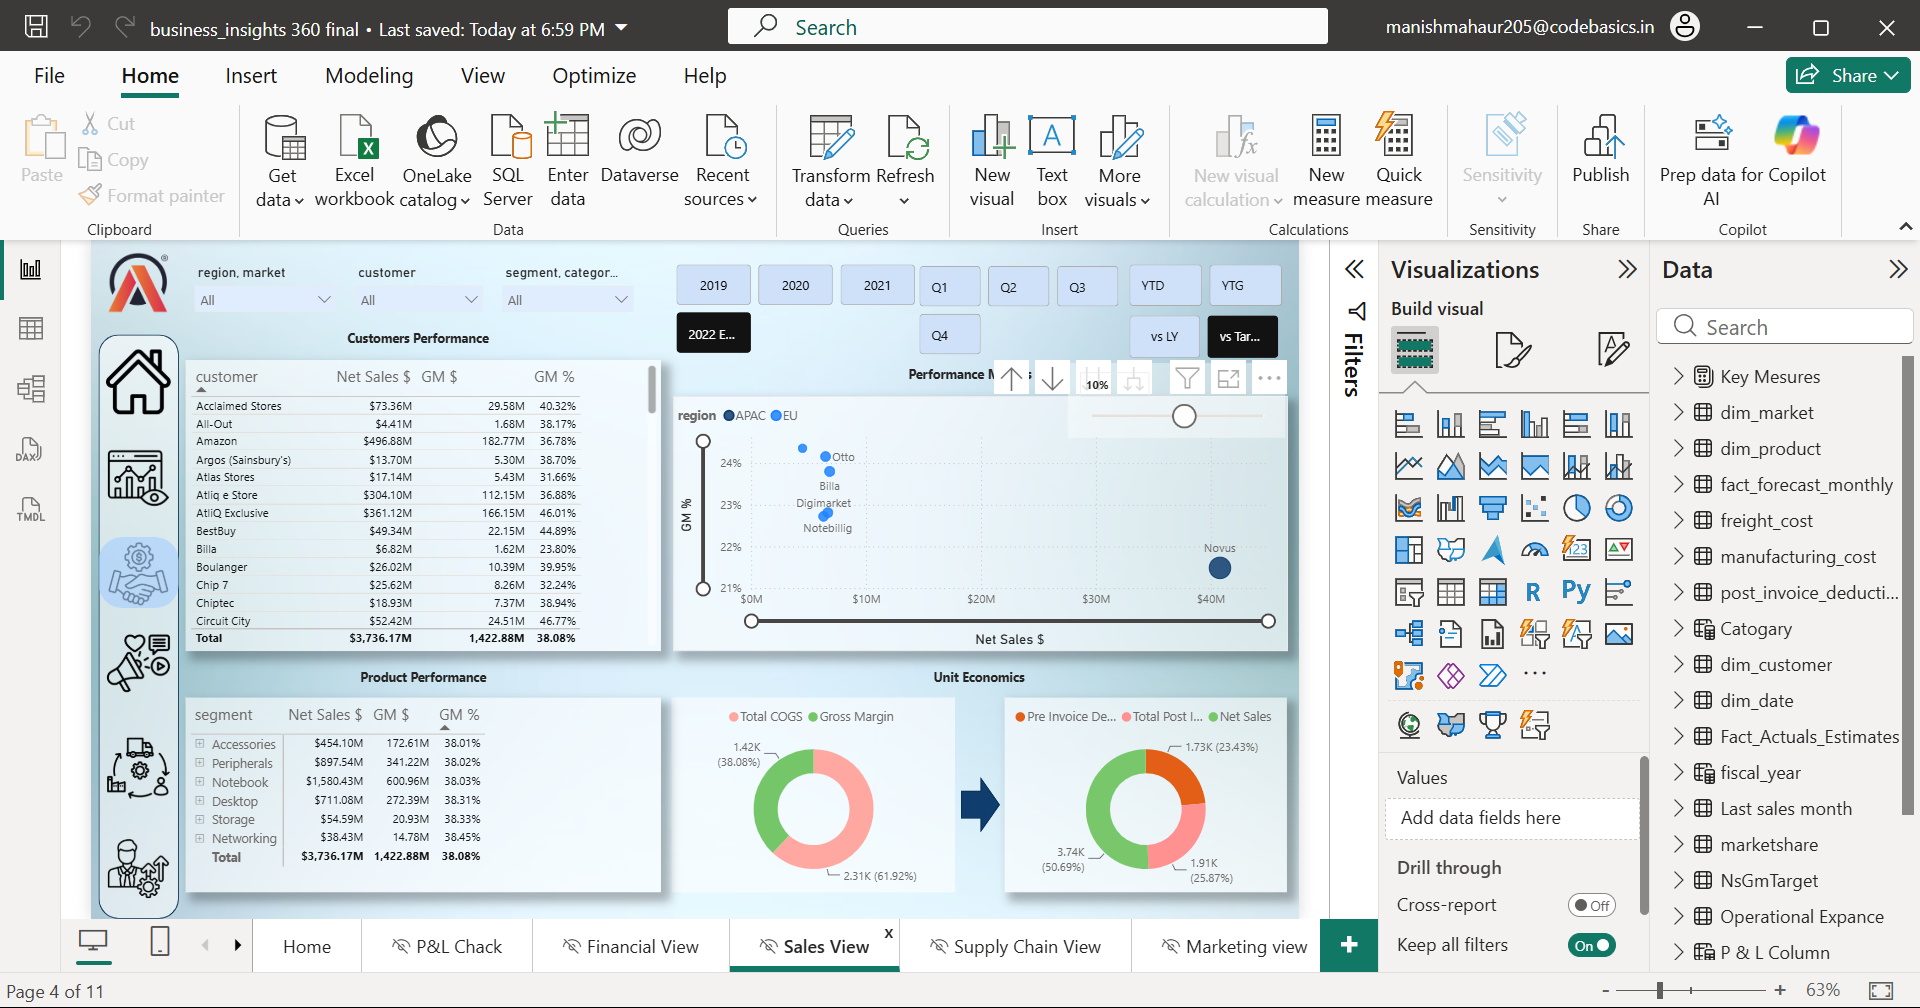

What the dashboard file says about the page in this screenshot:
{"tool":"powerbi","page":{"name":"Sales View","canvas":[1280,720],"ordinal":3},"visuals":[{"type":"advancedSlicerVisual","fields":{"Values":["fiscal_year.FY Desc"]},"box":[615.6,20.7,264,105.6],"z":0},{"type":"advancedSlicerVisual","fields":{"Values":["dim_date.Quarter"]},"box":[873.2,22.3,223.3,105],"z":1000},{"type":"advancedSlicerVisual","fields":{"Values":["dim_date.YTD_YTG"]},"box":[1096.6,20.3,172.9,54.2],"z":2000},{"type":"slicer","fields":{"Values":[" dim_market.region"," dim_market.market"]},"box":[100.8,20.8,169.6,65.6],"z":3000},{"type":"slicer","fields":{"Values":[" dim_product.segment"," dim_product.category"," dim_product.product"]},"box":[425.6,20.8,158.4,65.6],"z":4000},{"type":"slicer","fields":{"Values":["dim_customer.customer"]},"box":[270.4,20.7,155.2,65.6],"z":5000},{"type":"shape","box":[8.2,100,85.2,619.7],"z":6000},{"type":"image","box":[8.2,13.1,85.2,63.9],"z":7000},{"type":"image","box":[16.4,213.1,68.9,78.7],"z":8000},{"type":"image","box":[16.4,116.4,68.9,68.9],"z":9000},{"type":"image","box":[16.4,411.5,68.9,73.8],"z":10000},{"type":"image","box":[16.4,318,68.9,72.1],"z":11000},{"type":"image","box":[16.4,521.3,68.9,77],"z":12000},{"type":"image","box":[16.4,627.9,68.9,77],"z":13000},{"type":"shape","box":[8,314.9,85.2,75.4],"z":14000},{"type":"tableEx","fields":{"Values":["dim_customer.customer","Key Mesures.Net Sales $","Key Mesures.Gross Margin $","Key Mesures.Gross Margin %"]},"box":[100.2,127.2,504.2,308.6],"z":15000},{"type":"donutChart","fields":{"Category":["P & L Rows.Description"],"Y":["Key Mesures.P & L Velue"]},"box":[968.7,485.1,299,206.8],"z":16000},{"type":"shape","box":[922.6,569.4,41.4,58.9],"z":17000},{"type":"donutChart","fields":{"Category":["P & L Rows.Description"],"Y":["Key Mesures.P & L Velue"]},"box":[615.5,485.3,300.6,206.8],"z":18000},{"type":"pivotTable","fields":{"Rows":[" dim_product.segment"," dim_product.category"," dim_product.product"],"Values":["Key Mesures.Net Sales $","Key Mesures.Gross Margin $","Key Mesures.Gross Margin %"]},"box":[100.2,485.1,504.2,206.8],"z":19000},{"type":"textbox","box":[100.2,89.1,493.1,38.2],"z":20000},{"type":"textbox","box":[100.2,448.6,504.2,38.2],"z":21000},{"type":"textbox","box":[594.9,127.2,674.4,38.2],"z":22000},{"type":"scatterChart","fields":{"Category":[" dim_market.market","dim_customer.customer"],"Series":[" dim_market.region"],"Size":["Key Mesures.Net Sales $"],"X":["Key Mesures.Net Sales $"],"Y":["Key Mesures.Gross Margin %"]},"box":[617.4,165.5,652.2,270.4],"z":23000},{"type":"textbox","box":[615.6,448.6,652.2,38.2],"z":24000},{"type":"advancedSlicerVisual","fields":{"Values":["Set BM.Benchmark"]},"box":[1096.6,74.6,169.2,55.8],"z":25000},{"type":"slicer","fields":{"Values":["Target Gap Tolarence.Target Gap Tolarence"]},"box":[1035.6,130.5,230.6,79.5],"z":26000}]}

Visuals, with their boxes on the page's 1280x720 design canvas (x1, y1, x2, y2). These are canvas units, not pixel positions in the 1920x1008 screenshot, which may show the page scaled, cropped or inside an application window:
advancedSlicerVisual - fiscal_year.FY Desc: left=616, top=21, right=880, bottom=126
advancedSlicerVisual - dim_date.Quarter: left=873, top=22, right=1096, bottom=127
advancedSlicerVisual - dim_date.YTD_YTG: left=1097, top=20, right=1270, bottom=74
slicer -  dim_market.region x  dim_market.market: left=101, top=21, right=270, bottom=86
slicer -  dim_product.segment x  dim_product.category: left=426, top=21, right=584, bottom=86
slicer - dim_customer.customer: left=270, top=21, right=426, bottom=86
shape: left=8, top=100, right=93, bottom=720
image: left=8, top=13, right=93, bottom=77
image: left=16, top=213, right=85, bottom=292
image: left=16, top=116, right=85, bottom=185
image: left=16, top=412, right=85, bottom=485
image: left=16, top=318, right=85, bottom=390
image: left=16, top=521, right=85, bottom=598
image: left=16, top=628, right=85, bottom=705
shape: left=8, top=315, right=93, bottom=390
tableEx - dim_customer.customer x Key Mesures.Net Sales $: left=100, top=127, right=604, bottom=436
donutChart - P & L Rows.Description x Key Mesures.P & L Velue: left=969, top=485, right=1268, bottom=692
shape: left=923, top=569, right=964, bottom=628
donutChart - P & L Rows.Description x Key Mesures.P & L Velue: left=616, top=485, right=916, bottom=692
pivotTable -  dim_product.segment x  dim_product.category: left=100, top=485, right=604, bottom=692
textbox: left=100, top=89, right=593, bottom=127
textbox: left=100, top=449, right=604, bottom=487
textbox: left=595, top=127, right=1269, bottom=165
scatterChart -  dim_market.market x dim_customer.customer: left=617, top=166, right=1270, bottom=436
textbox: left=616, top=449, right=1268, bottom=487
advancedSlicerVisual - Set BM.Benchmark: left=1097, top=75, right=1266, bottom=130
slicer - Target Gap Tolarence.Target Gap Tolarence: left=1036, top=130, right=1266, bottom=210
